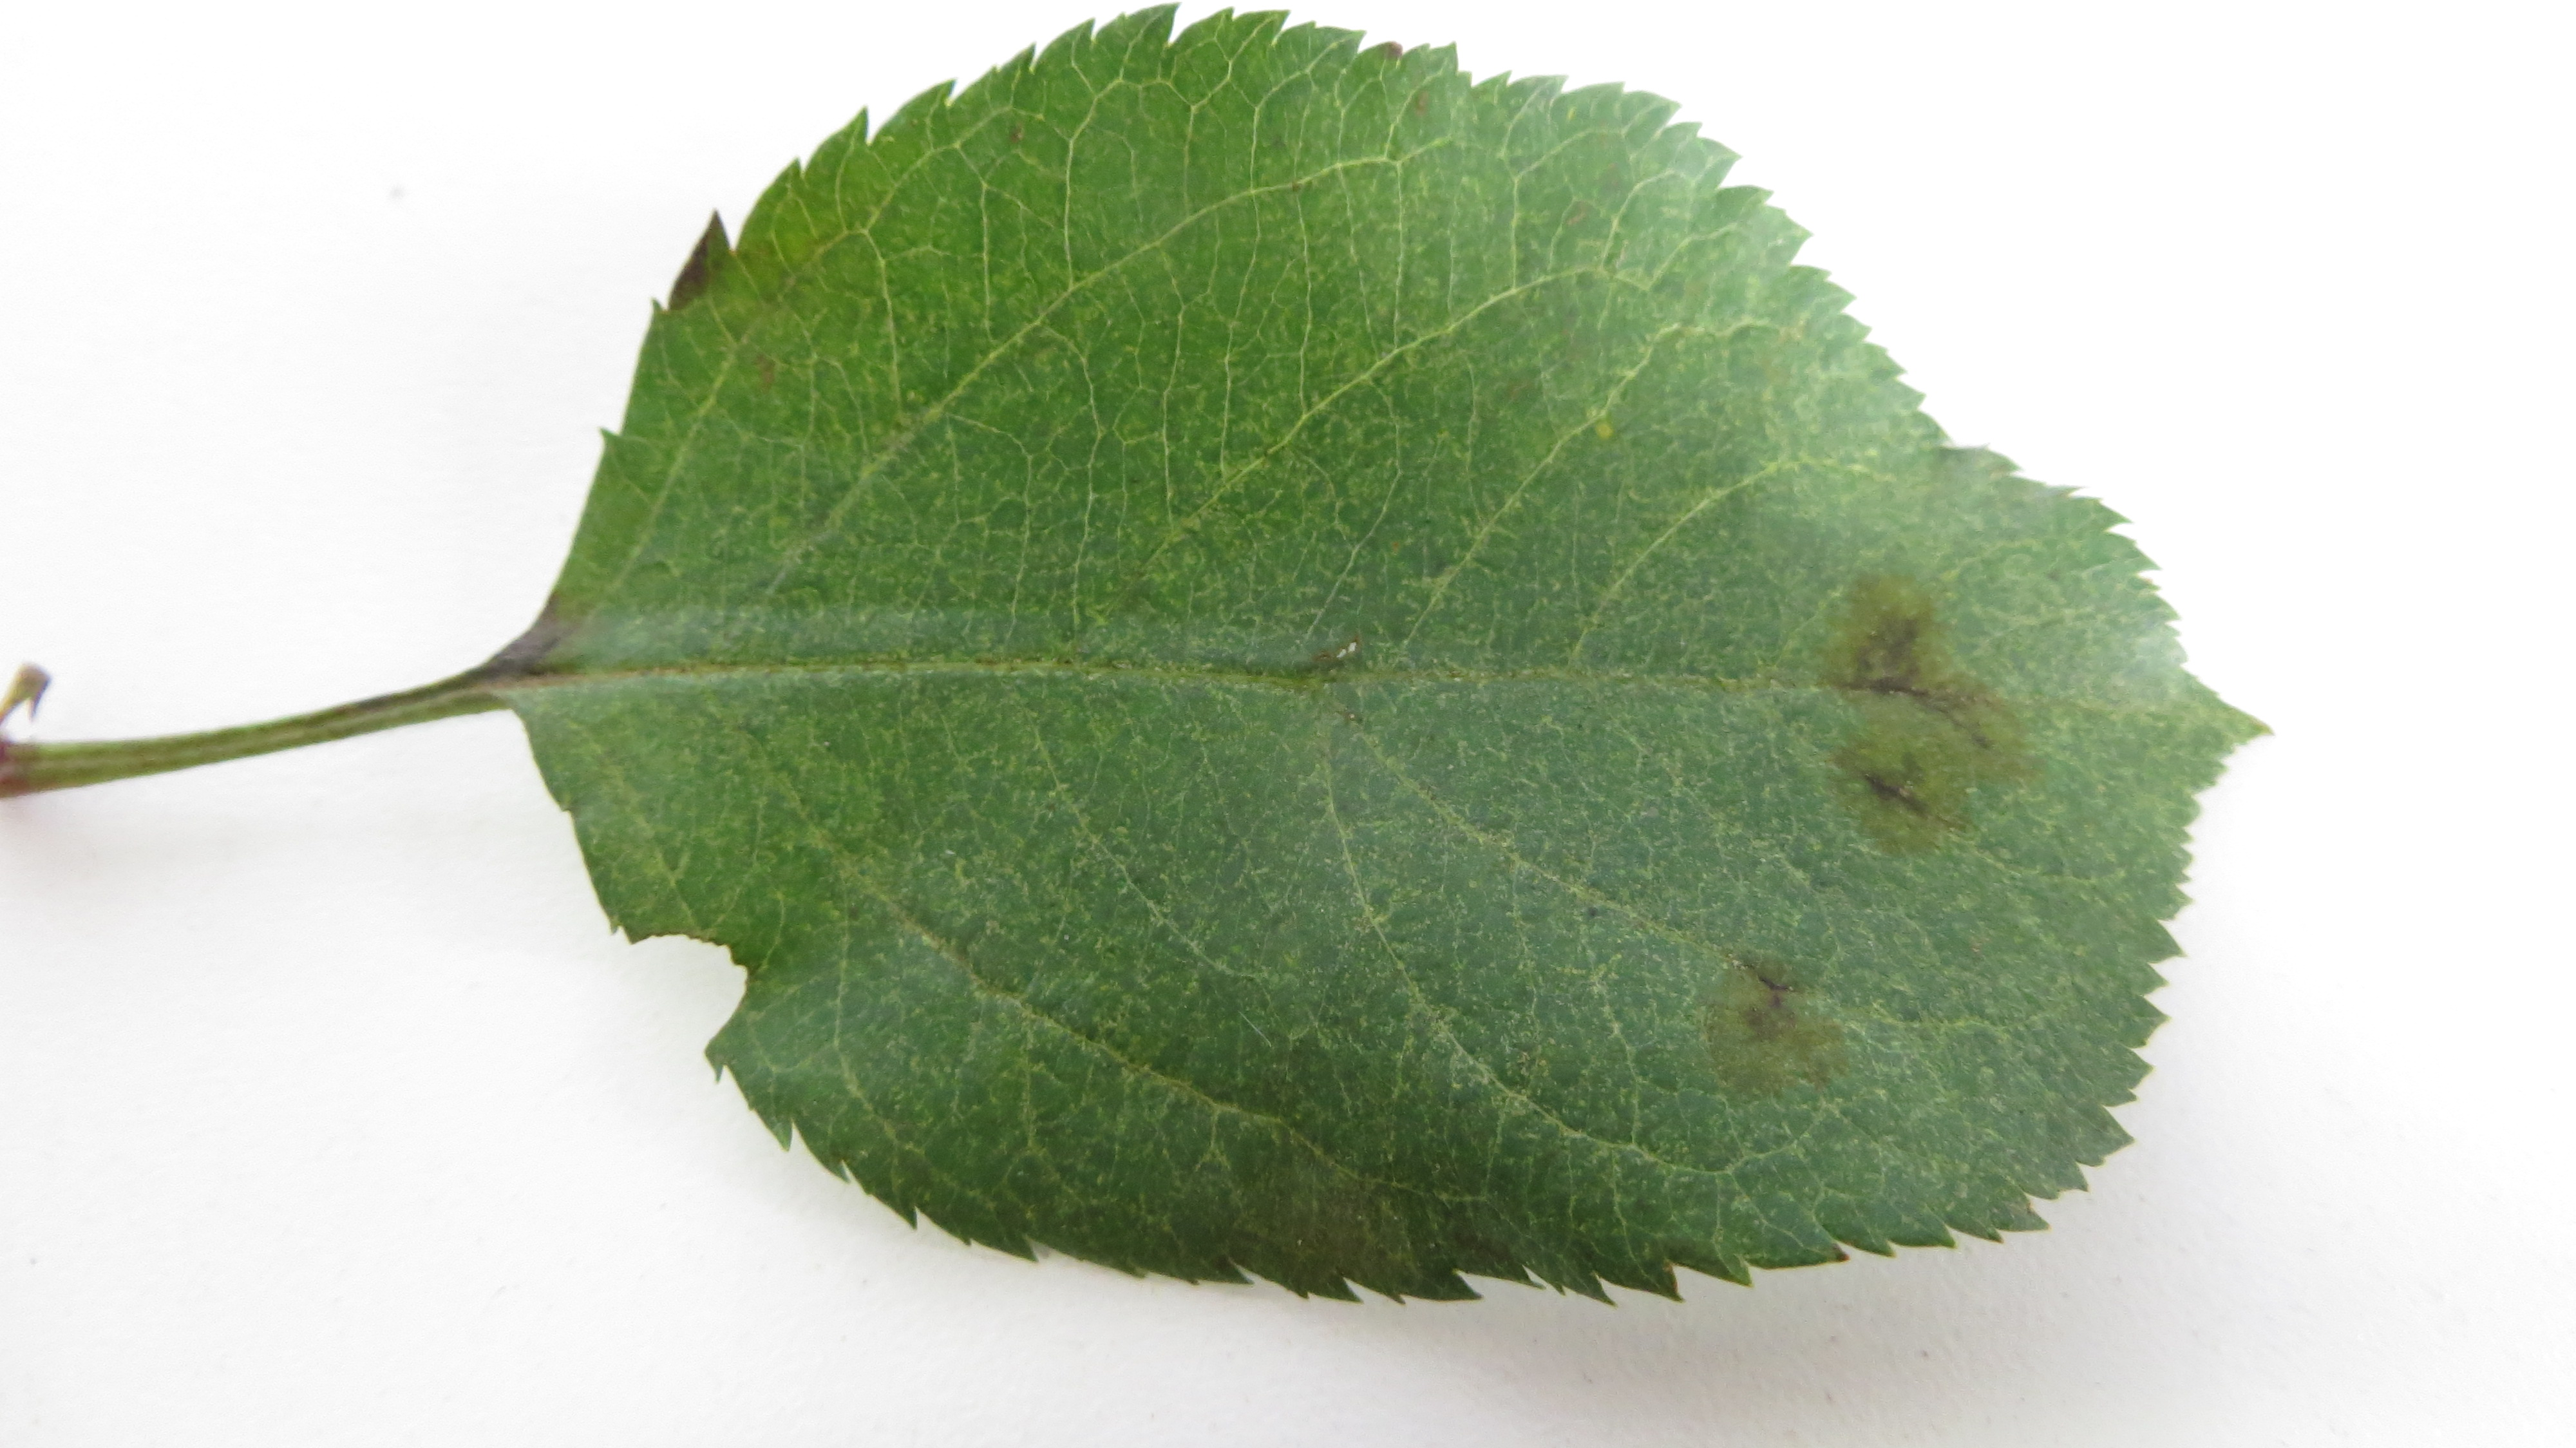sarna: (1806, 696, 1974, 857), (1695, 947, 1858, 1112), (1805, 563, 1946, 699), (1939, 673, 2038, 775)
